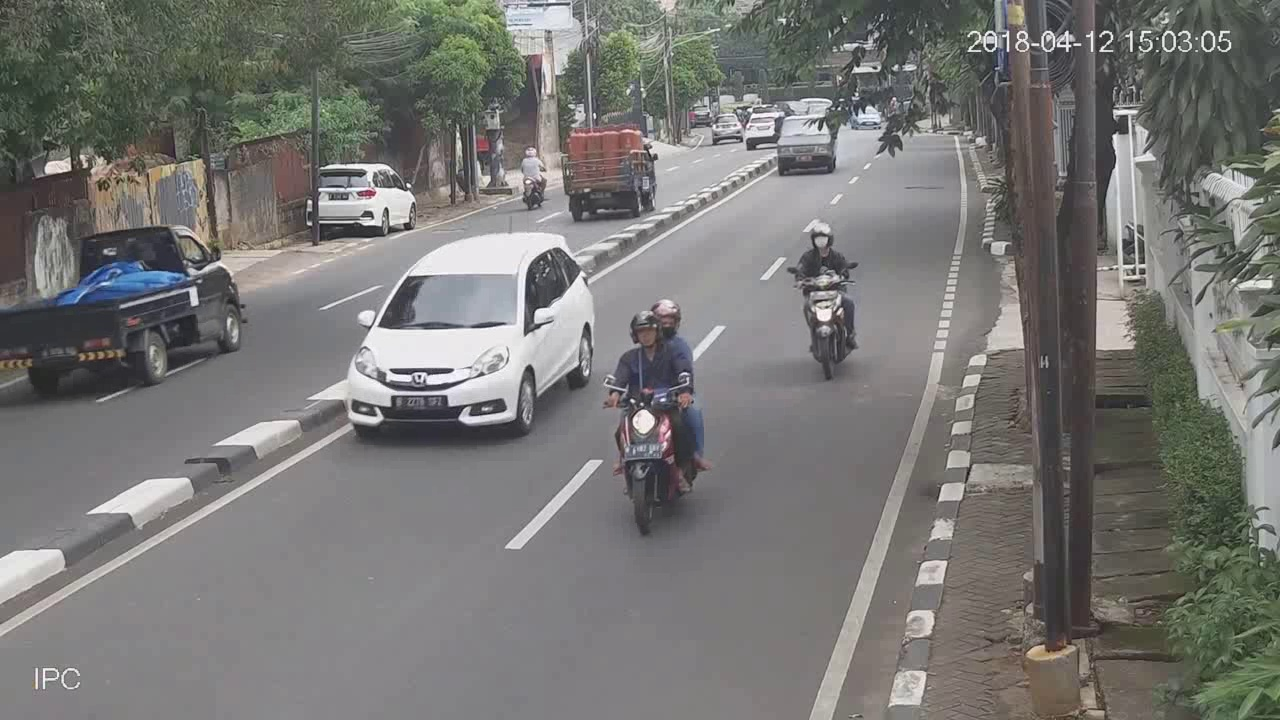car: (345, 232, 594, 437), (303, 160, 420, 237), (776, 114, 837, 173)
motorcycle: (605, 295, 711, 541), (787, 221, 861, 384), (517, 144, 550, 209)
truck: (1, 224, 247, 392), (559, 125, 657, 216)
